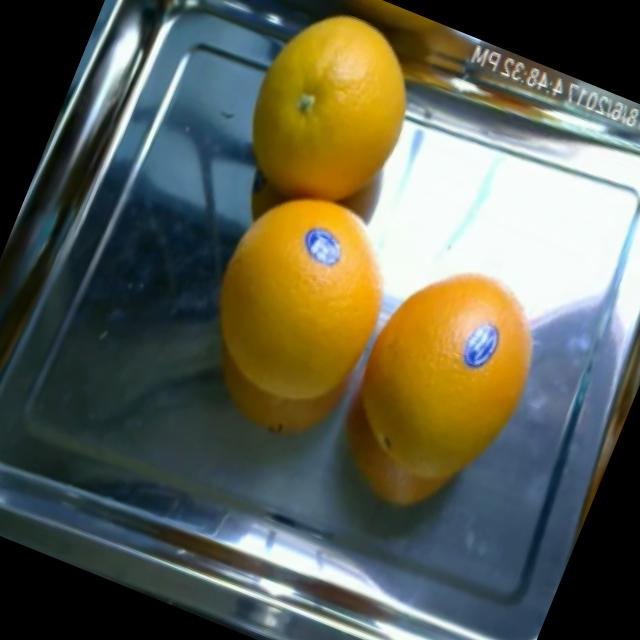Fruit: (446, 306, 512, 384)
